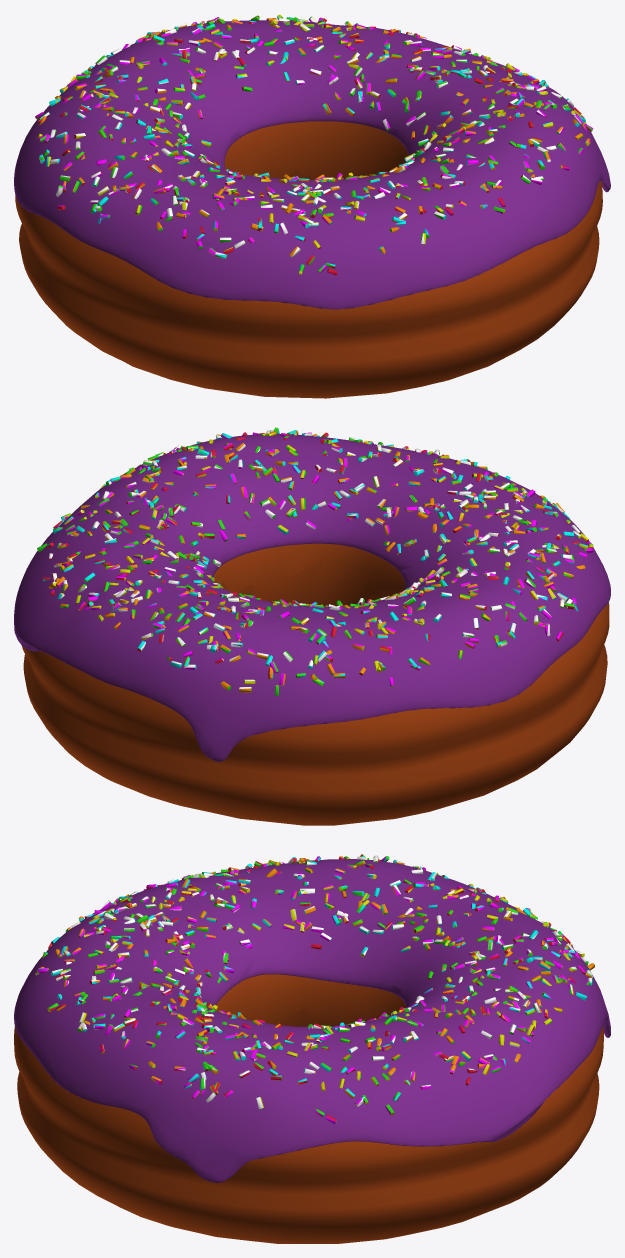
File: Donut.fbx
3 renders of one model, top to bottom at view 1: azimuth 30°, elevation 25°; view 2: azimuth 150°, elevation 25°; view 3: azimuth 270°, elevation 25°, orthographic.
Parts seen in each view (by area): view 1: GlassaCiambella, PastaCiambella, Donut_diff; view 2: GlassaCiambella, PastaCiambella, Donut_diff; view 3: GlassaCiambella, PastaCiambella, Donut_diff.
Boxes of the visible parts, x1,y1,x2,y2 form: GlassaCiambella: [14, 20, 610, 309]; PastaCiambella: [15, 121, 602, 398]; Donut_diff: [35, 14, 593, 275]; GlassaCiambella: [14, 434, 610, 761]; PastaCiambella: [21, 543, 609, 825]; Donut_diff: [37, 427, 593, 695]; GlassaCiambella: [14, 859, 610, 1182]; PastaCiambella: [14, 974, 603, 1243]; Donut_diff: [35, 854, 594, 1124].
Size of the model in its own units: 0.9548 by 0.3658 by 0.964.
Materials: 3 (1 with a texture image).
